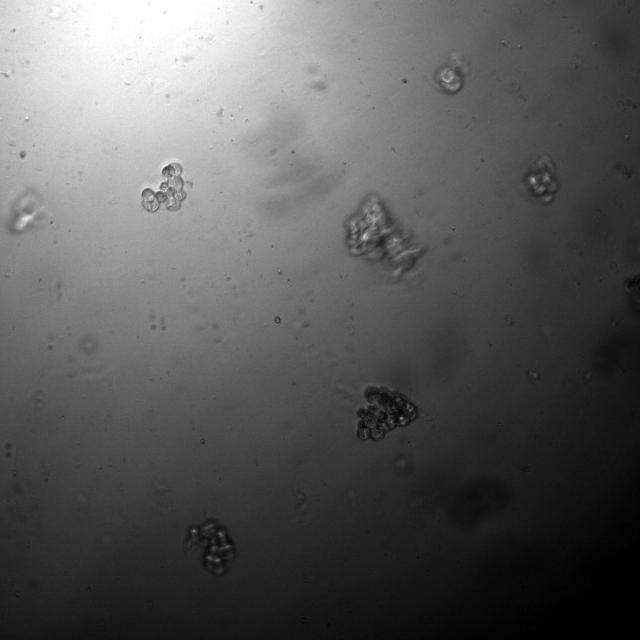organoid: (344, 193, 421, 277), (357, 386, 417, 441), (185, 519, 236, 575), (141, 162, 186, 212), (522, 154, 559, 204), (434, 53, 467, 94)
